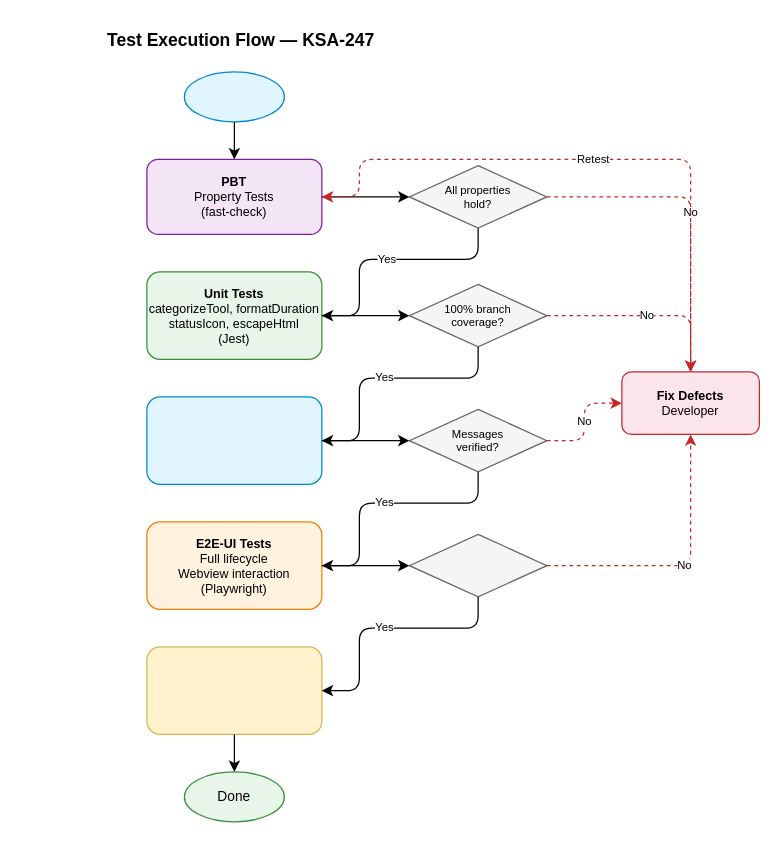
Image size: 781x844. Some labels were removed from this diagram. Here are the shapes that lost their labels. From the top down, the centre of each, then its label:
At (x=233, y=96): "Start".
At (x=234, y=440): "Integration Tests postMessage flow State persistence (VS Code Test API)".
At (x=477, y=565): "All scenarios pass?".
At (x=234, y=690): "Manual SIT Visual/UX verification Animation timing (Browser)".
